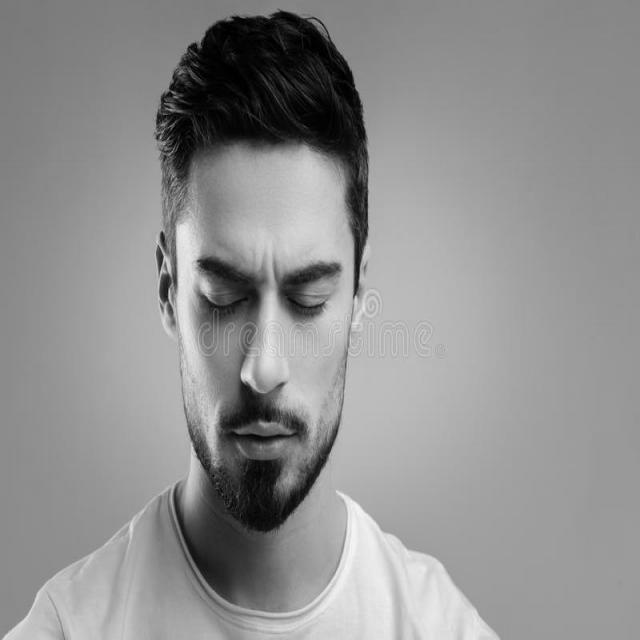real: (152, 129, 373, 532), (184, 244, 350, 338)
